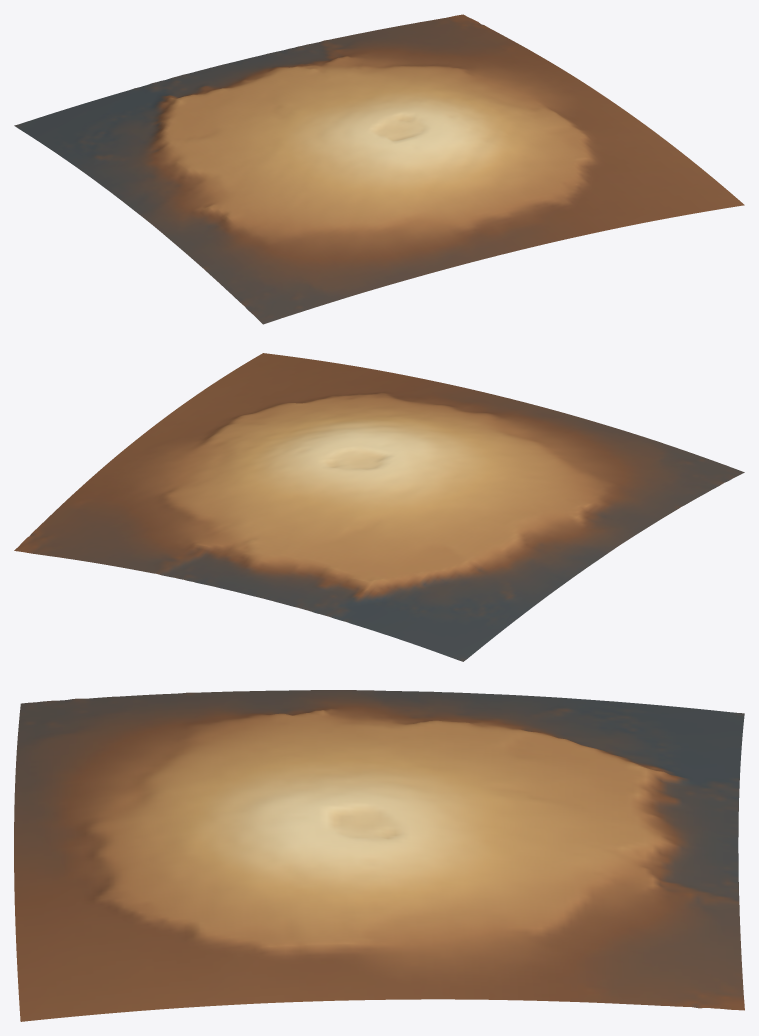
Rendered from mola-olympus-mons.glb.
3 renders of one model, top to bottom at view 1: azimuth 30°, elevation 25°; view 2: azimuth 150°, elevation 25°; view 3: azimuth 270°, elevation 25°, orthographic. The views are drawn at different scales.
Parts seen in each view (by area): view 1: Olympus Mons Width MOLA terrain; view 2: Olympus Mons Width MOLA terrain; view 3: Olympus Mons Width MOLA terrain.
Part boxes in pixels (bbox=[...]): Olympus Mons Width MOLA terrain: bbox=[14, 14, 744, 324]; Olympus Mons Width MOLA terrain: bbox=[14, 353, 744, 661]; Olympus Mons Width MOLA terrain: bbox=[14, 690, 744, 1021].
Bounding box in the file's own units: 735915 × 59977 × 708628.
Materials: 1 (1 with a texture image).
